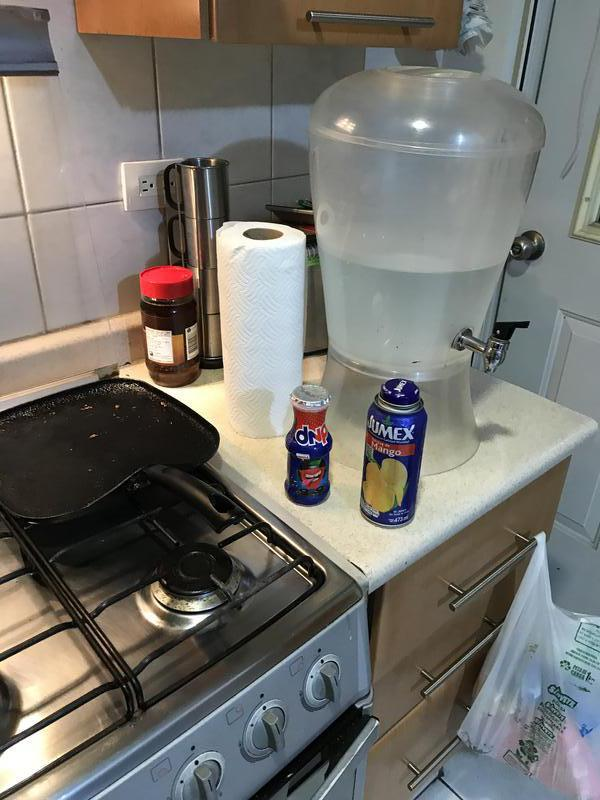danup: (286, 389, 335, 502)
jugo_jumex: (361, 379, 426, 530)
